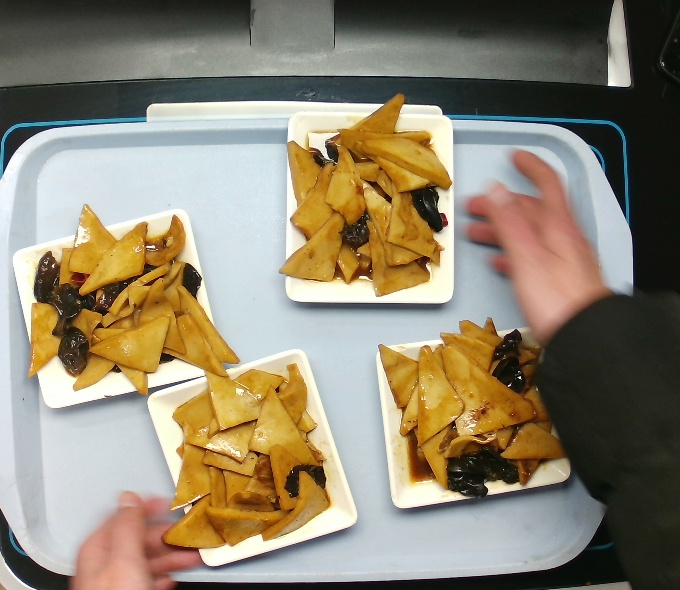wcq-QianYeDouFuChaoMuEr: (18, 198, 240, 399), (273, 89, 452, 302), (370, 312, 573, 498), (162, 353, 334, 555)
